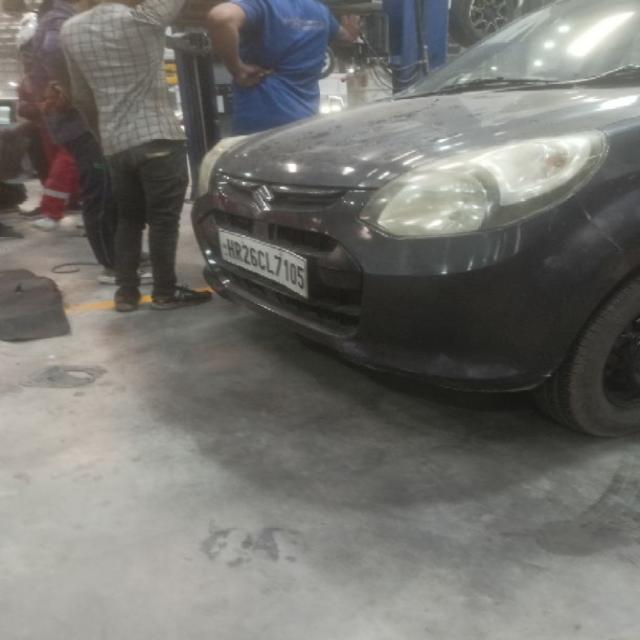license_plate: (214, 228, 310, 300)
